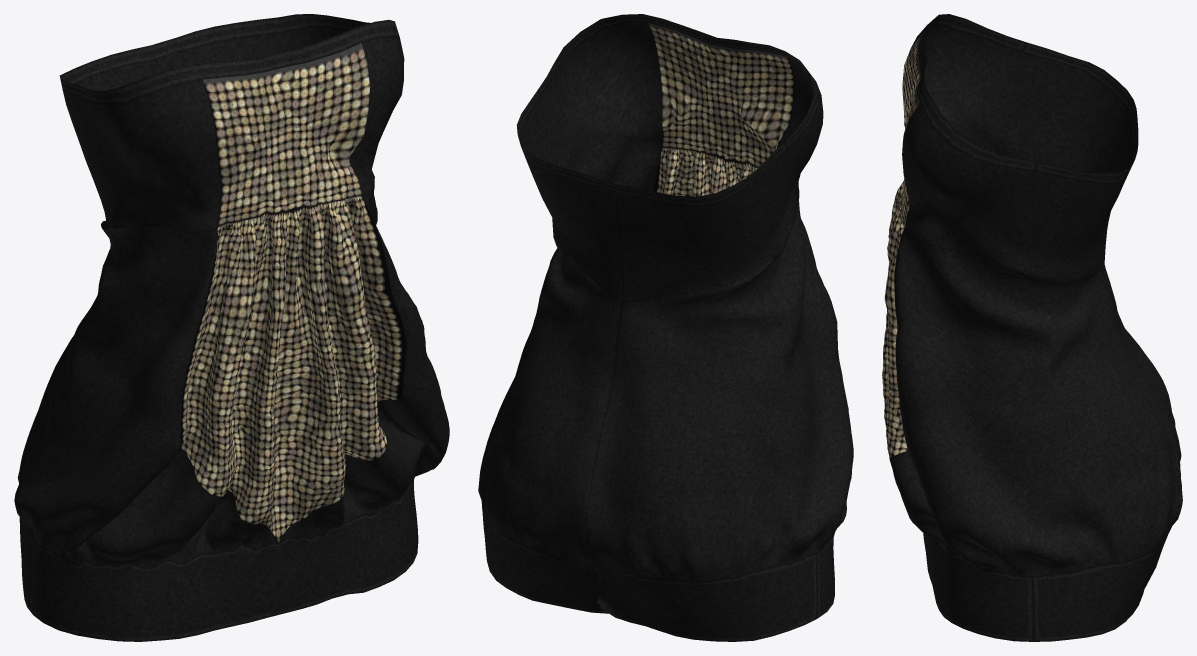
Rendered from dress2.glb.
3 views of the same model, side by side, from view 1: azimuth 30°, elevation 25°; view 2: azimuth 150°, elevation 25°; view 3: azimuth 270°, elevation 25° (orthographic). The views are drawn at different scales.
Parts seen in each view (by area): view 1: Party_Dress; view 2: Party_Dress; view 3: Party_Dress.
Boxes of the visible parts, <box> form: Party_Dress: <box>14,14,449,641</box>; Party_Dress: <box>478,14,853,641</box>; Party_Dress: <box>882,14,1182,641</box>.
Size of the model in its own units: 0.3839 by 0.5428 by 0.2888.
Materials: 1 (1 with a texture image).
